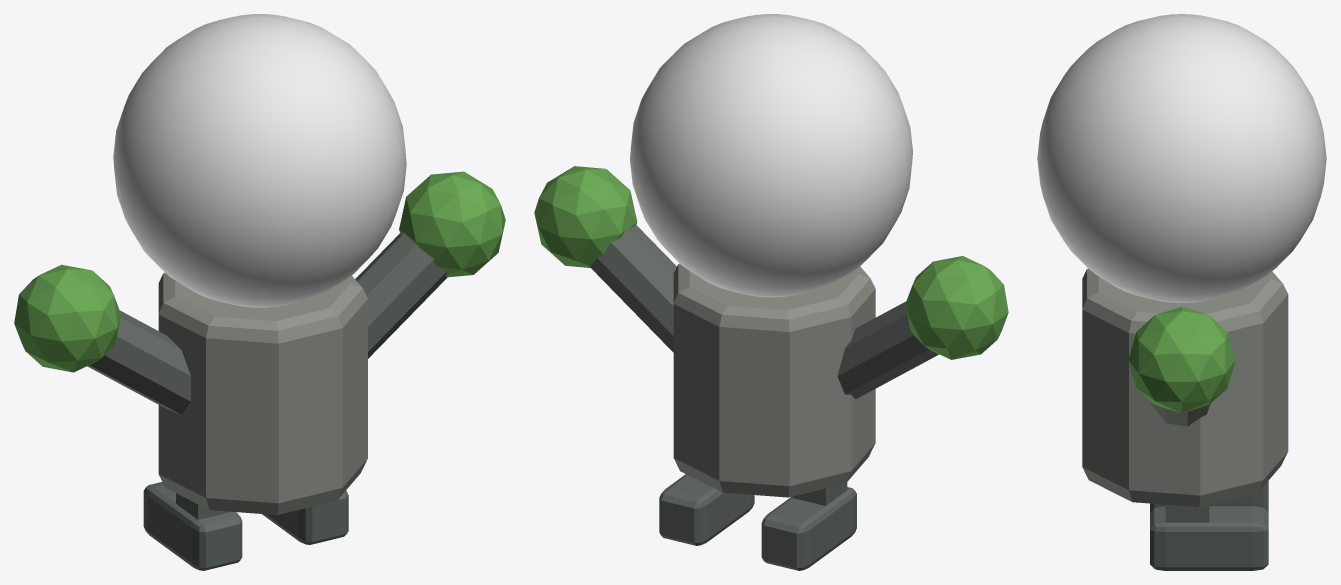
File: inoplanitanin1.fbx
3 views of the same model, side by side, from view 1: azimuth 30°, elevation 25°; view 2: azimuth 150°, elevation 25°; view 3: azimuth 270°, elevation 25° (orthographic). The views are drawn at different scales.
Visible parts, largest first — view 1: Sphere.001, Cylinder, Icosphere, Cylinder.001, Cube; view 2: Sphere.001, Cylinder, Icosphere, Cylinder.001, Cube; view 3: Sphere.001, Cylinder, Icosphere, Cube, Cylinder.001.
Part boxes in pixels (left/top/right/bottom): Sphere.001: left=113, top=14, right=406, bottom=307; Cylinder: left=158, top=272, right=367, bottom=514; Icosphere: left=14, top=171, right=505, bottom=372; Cylinder.001: left=87, top=233, right=447, bottom=414; Cube: left=143, top=482, right=348, bottom=570; Sphere.001: left=630, top=14, right=912, bottom=297; Cylinder: left=673, top=263, right=875, bottom=497; Icosphere: left=534, top=166, right=1008, bottom=359; Cylinder.001: left=589, top=225, right=938, bottom=399; Cube: left=659, top=474, right=856, bottom=570; Sphere.001: left=1037, top=14, right=1326, bottom=302; Cylinder: left=1082, top=268, right=1288, bottom=506; Icosphere: left=1128, top=306, right=1235, bottom=413; Cube: left=1150, top=481, right=1268, bottom=570; Cylinder.001: left=1151, top=402, right=1210, bottom=426.
Size of the model in its own units: 508 by 529 by 272.
